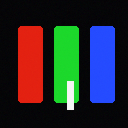4 line_v: (67, 81, 73, 109)
